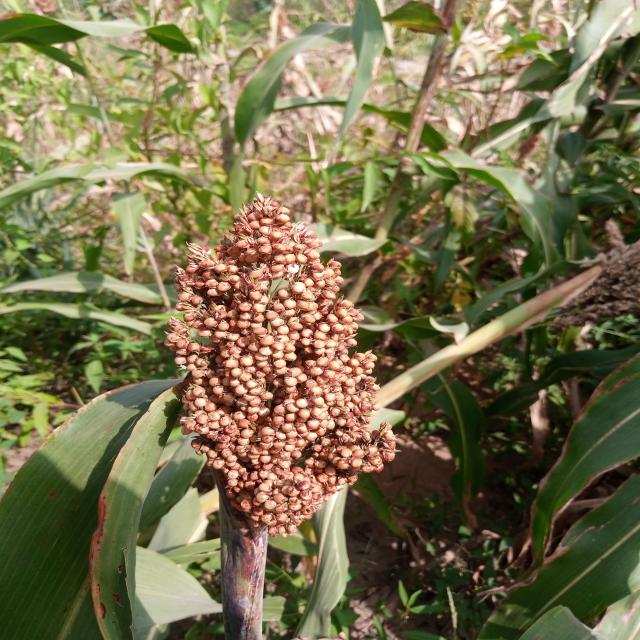RipeSorghum: (104, 198, 452, 534)
